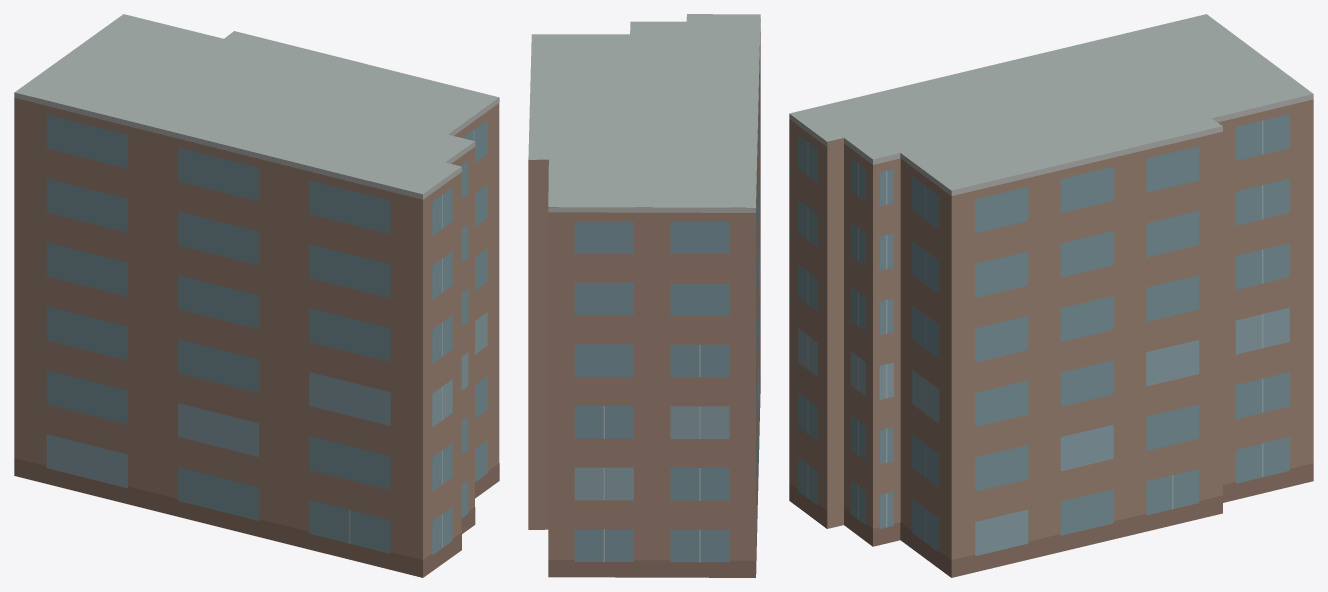
File: survey-upis-32724295.glb
3 renders of one model, left to right at view 1: azimuth 30°, elevation 25°; view 2: azimuth 150°, elevation 25°; view 3: azimuth 270°, elevation 25°, orthographic. The views are drawn at different scales.
Visible parts, largest first — view 1: survey-upis-32724295.tmp; view 2: survey-upis-32724295.tmp; view 3: survey-upis-32724295.tmp.
Part boxes in pixels (left/top/right/bottom): survey-upis-32724295.tmp: left=14, top=14, right=499, bottom=577; survey-upis-32724295.tmp: left=528, top=14, right=760, bottom=577; survey-upis-32724295.tmp: left=789, top=14, right=1313, bottom=577.
Bounding box in the file's own units: 17.04 × 17.4 × 21.37.
